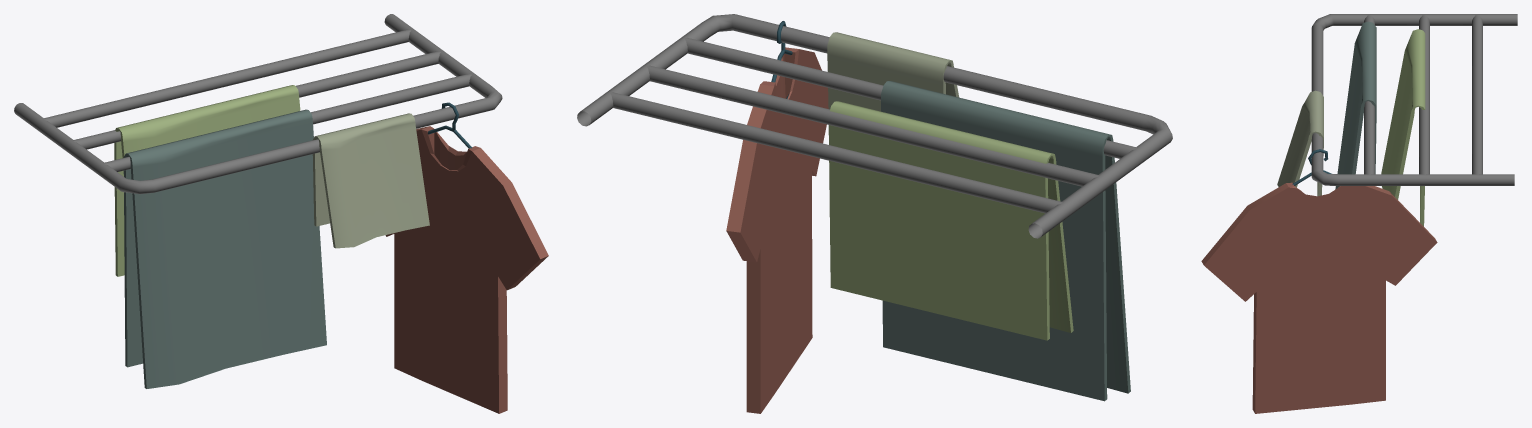
Rendered from hanger.fbx.
The picture shows the model from 3 angles, left to right: view 1: azimuth 30°, elevation 25°; view 2: azimuth 150°, elevation 25°; view 3: azimuth 270°, elevation 25°; orthographic projection. The views are drawn at different scales.
Parts seen in each view (by area): view 1: hanger; view 2: hanger; view 3: hanger.
Part boxes in pixels (box(x1,y1,x2,y2)): hanger: box(14, 14, 548, 413); hanger: box(577, 14, 1172, 413); hanger: box(1201, 14, 1517, 413).
Size of the model in its own units: 1.3 by 0.9378 by 1.05.
